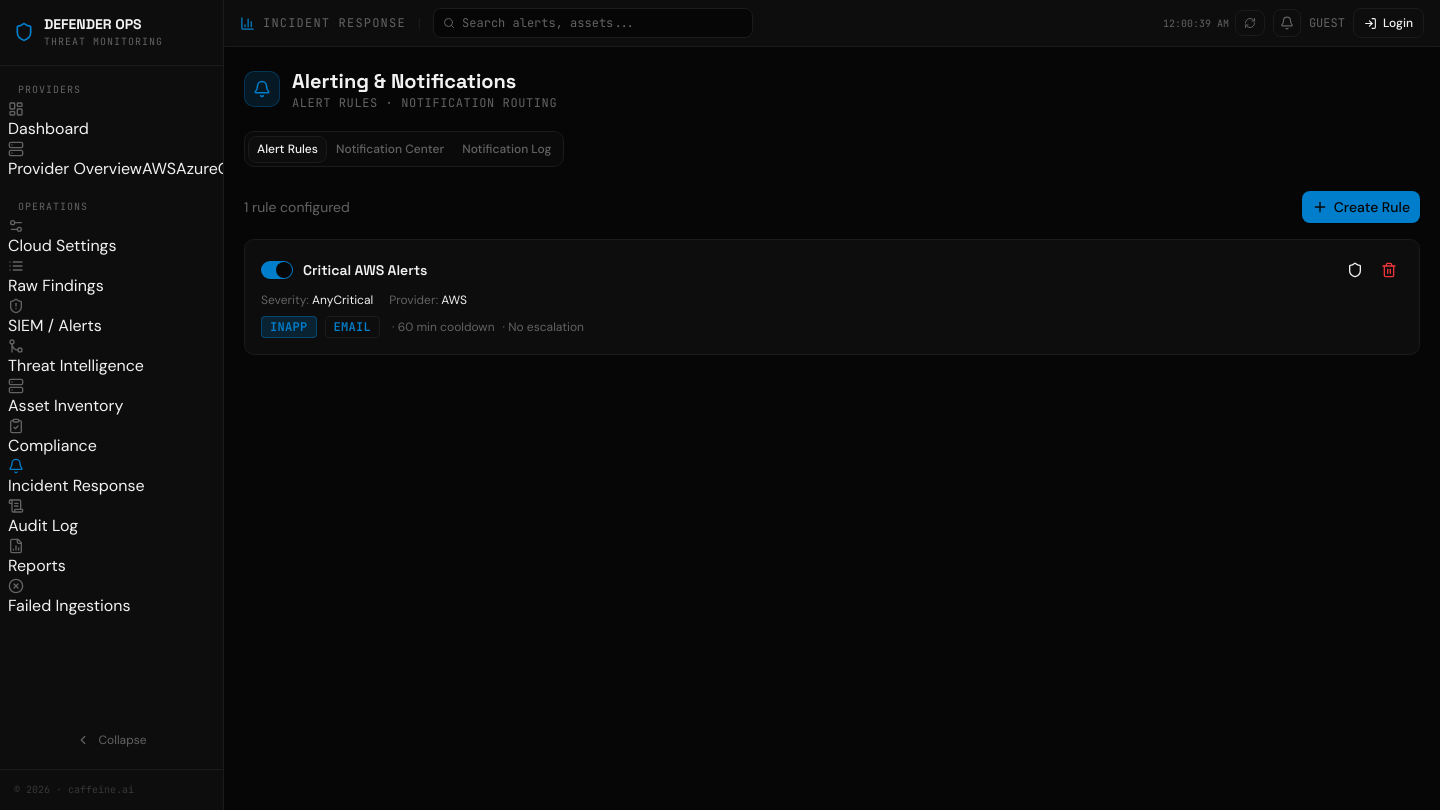
Scenario: NotificationsPage (characterize) › shows the empty notification log state when there is no history
Press the mouse on the tab with test id "notifications.log_tab": (507, 149) x1=453 y1=136 x2=560 y2=162
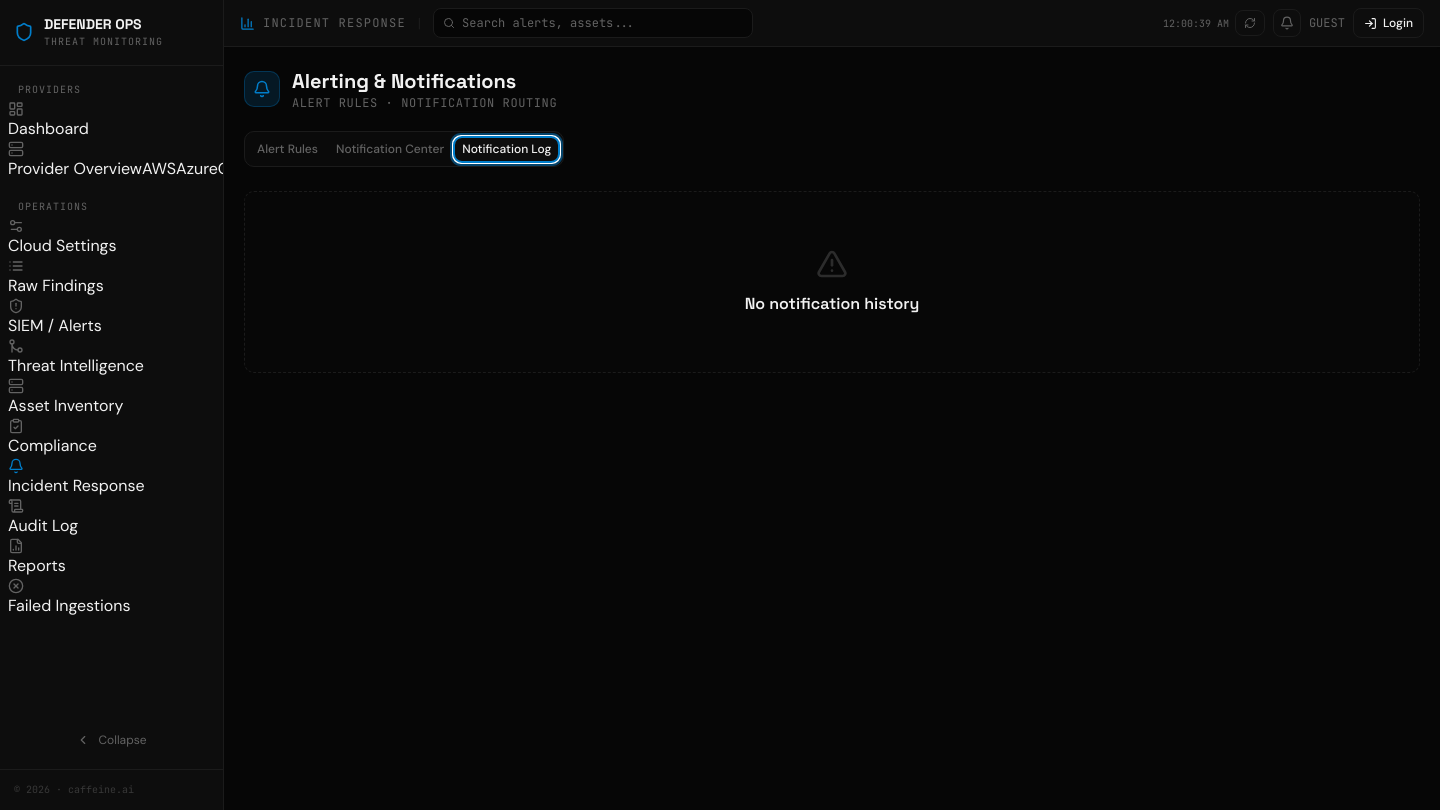
Check: the element with test id "notifications.log_empty_state" is shown, box x1=244 y1=191 x2=1420 y2=373
